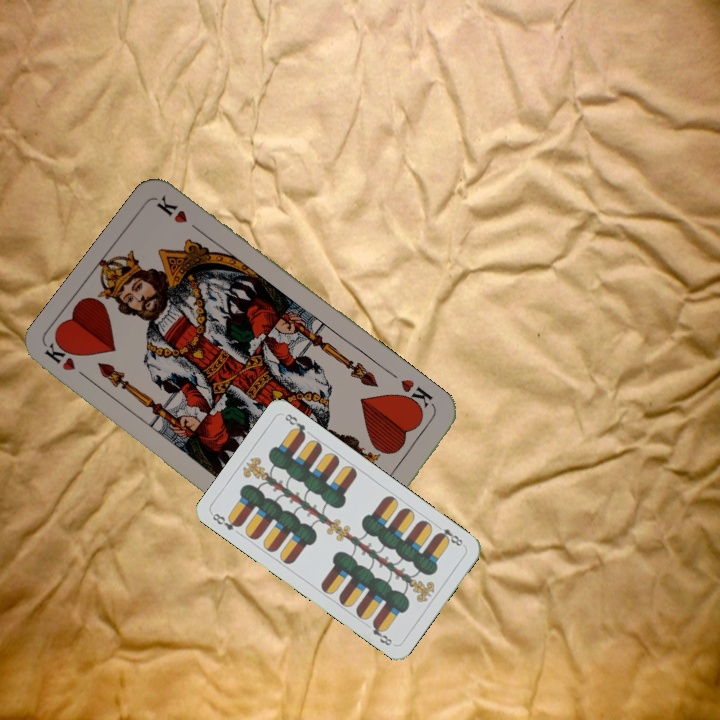E8: (432, 521, 467, 549), (208, 509, 243, 533)
HK: (41, 336, 94, 385), (393, 374, 439, 416)
